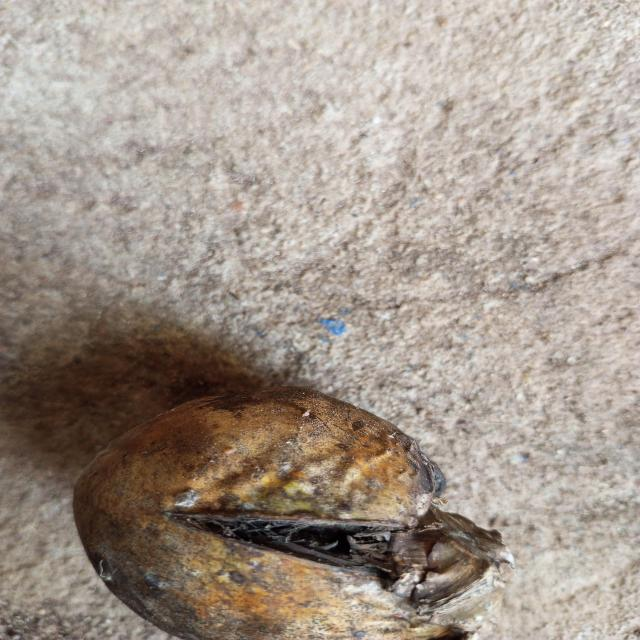damaged: (71, 386, 513, 640)
